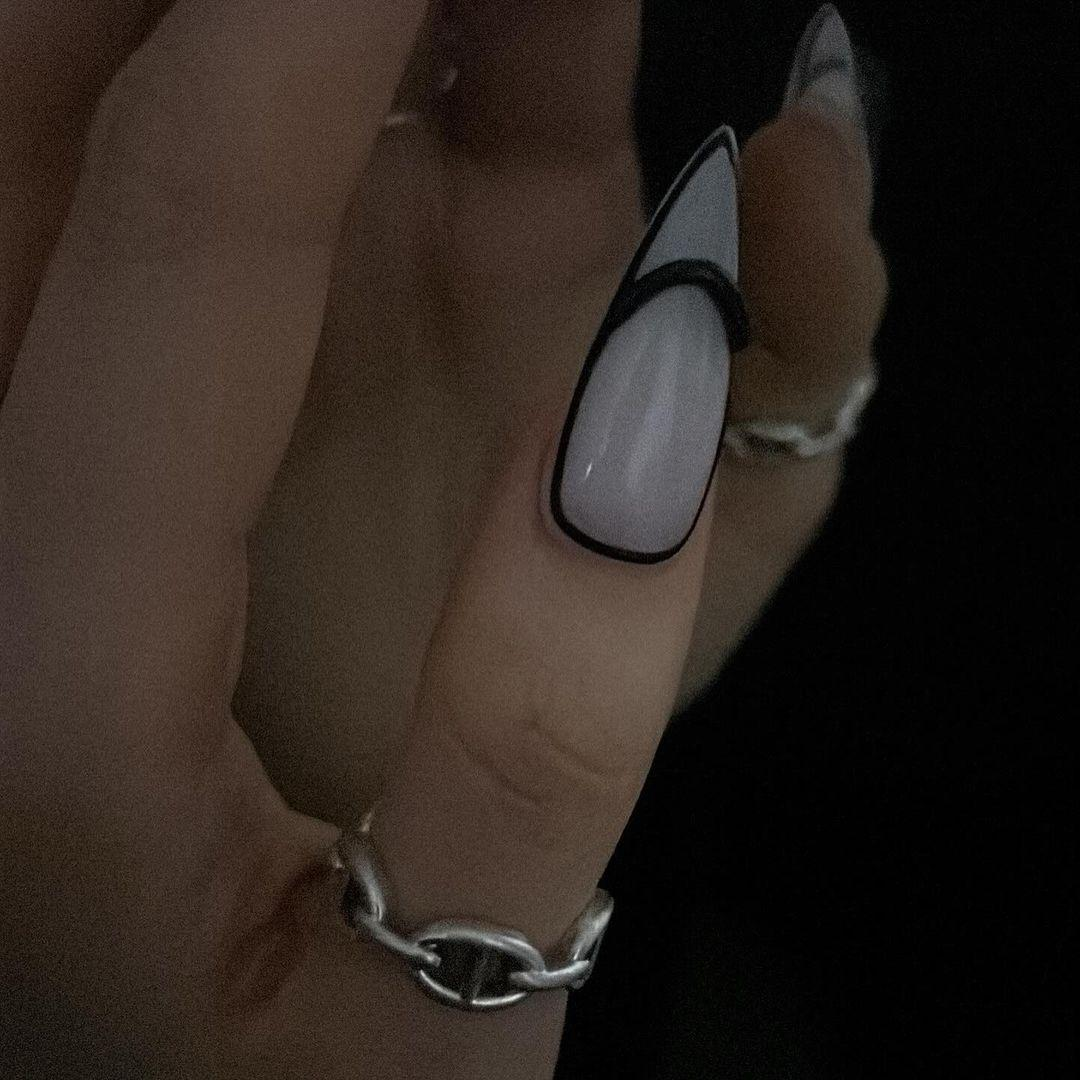nail: (546, 121, 750, 565)
